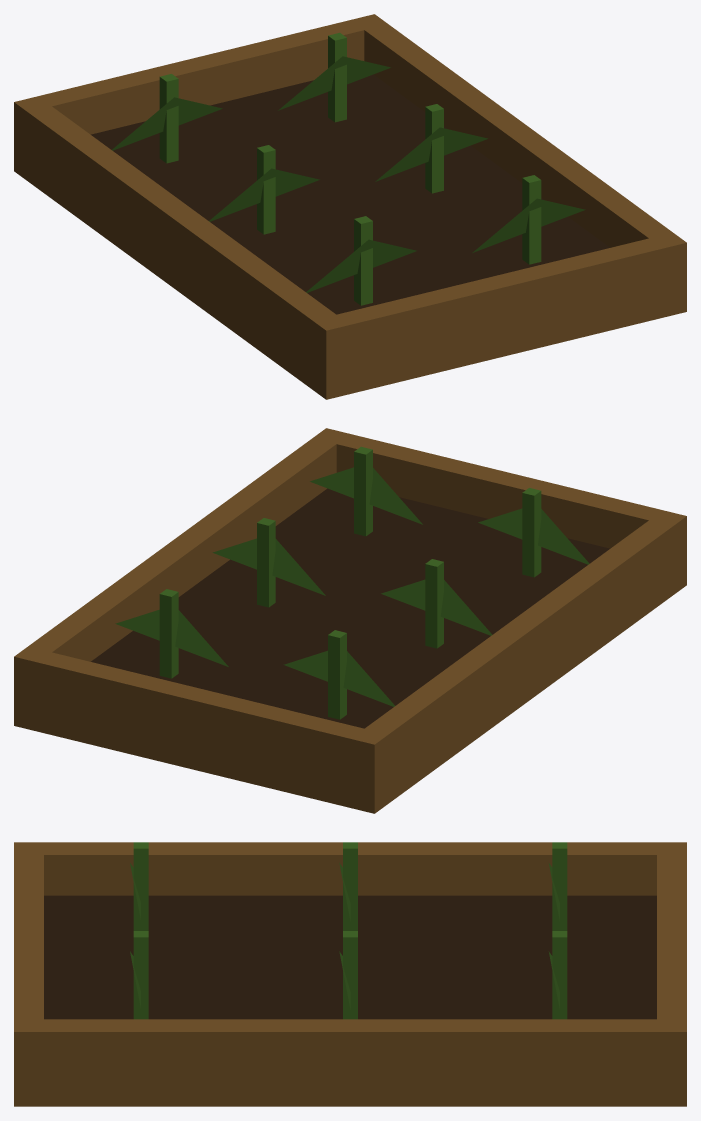
The model's file is plantbed.dae.
3 views of the same model, one above another, from view 1: azimuth 30°, elevation 25°; view 2: azimuth 150°, elevation 25°; view 3: azimuth 270°, elevation 25° (orthographic). The views are drawn at different scales.
Visible parts, largest first — view 1: frame-node, soil-node, leaf-node; view 2: frame-node, soil-node, leaf-node; view 3: frame-node, soil-node, leaf-node.
Boxes of the visible parts, x1,y1,x2,y2 form: frame-node: (14,14,686,399); soil-node: (91,74,609,314); leaf-node: (112,32,585,305); frame-node: (14,428,686,813); soil-node: (91,488,609,728); leaf-node: (115,446,589,719); frame-node: (14,842,686,1106); soil-node: (44,895,656,1019); leaf-node: (130,842,567,1019).
Bounding box in the file's own units: 120 × 180 × 36.
